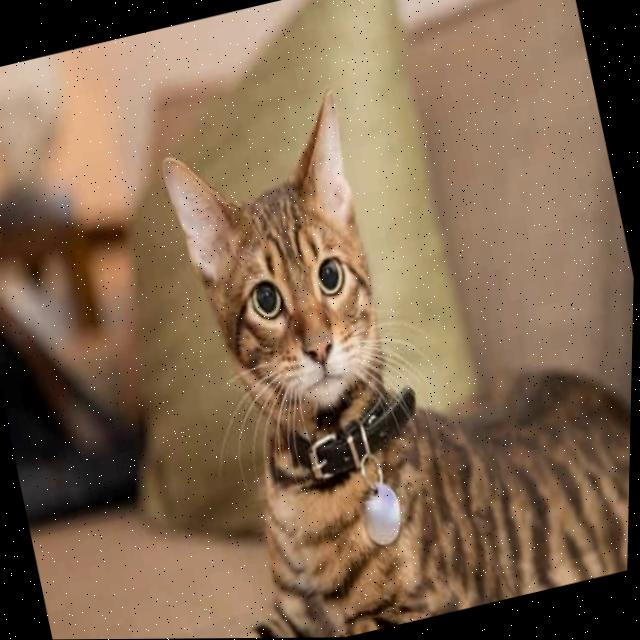Toyger: (0, 23, 640, 640)
